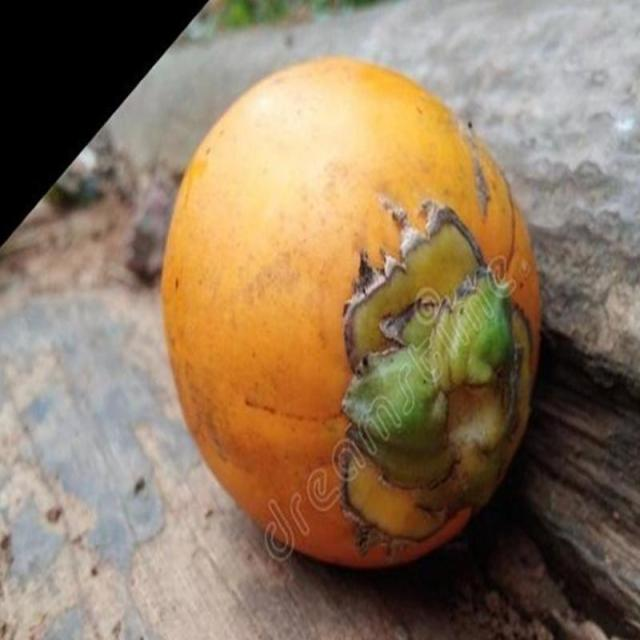good: (159, 57, 544, 573)
